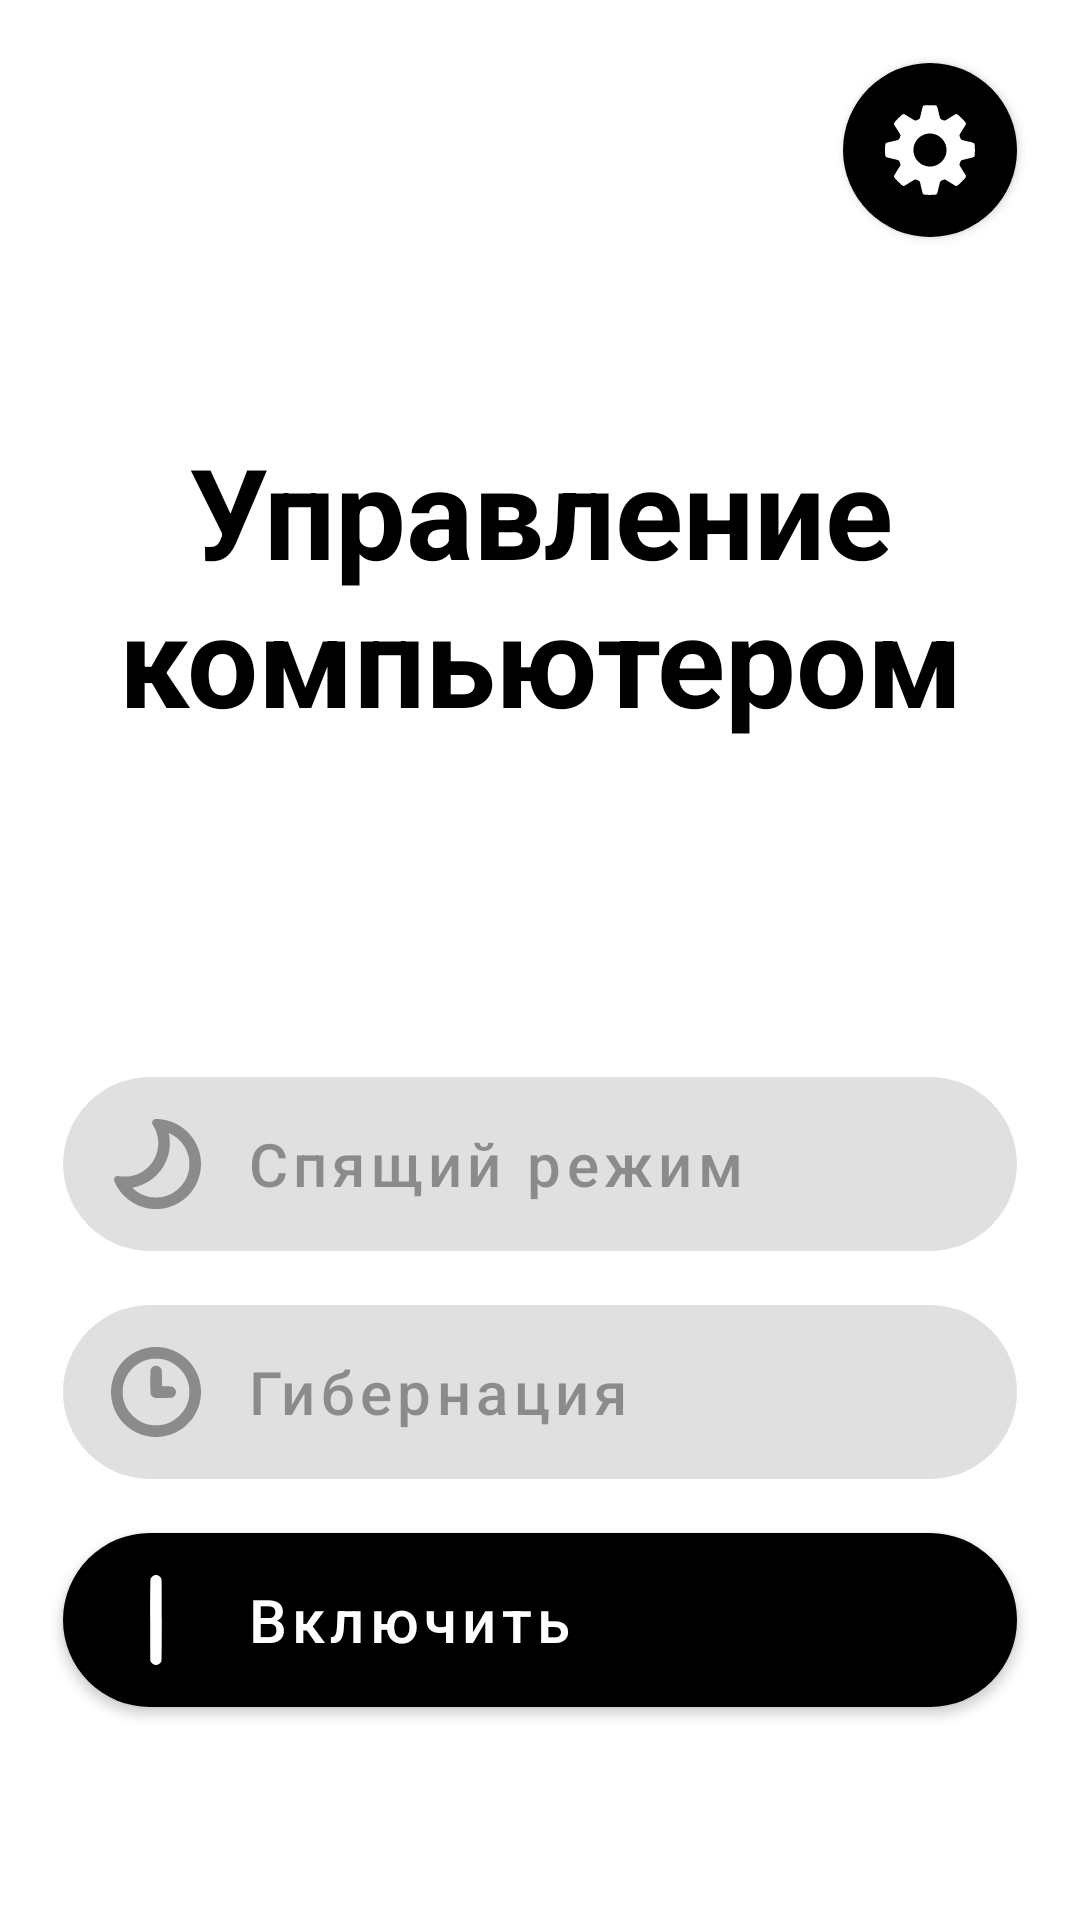

Point at icon controls on the screen. Image size 1080w x 1920h, points as (x,y).
settings: (930,150)
